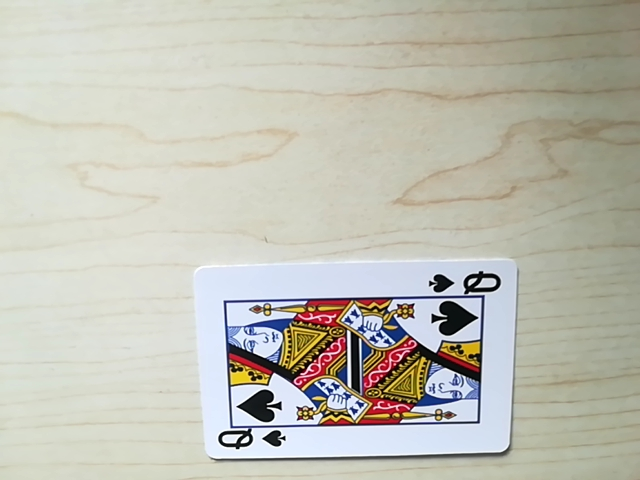ht q: (211, 426, 285, 459), (429, 265, 501, 296)
